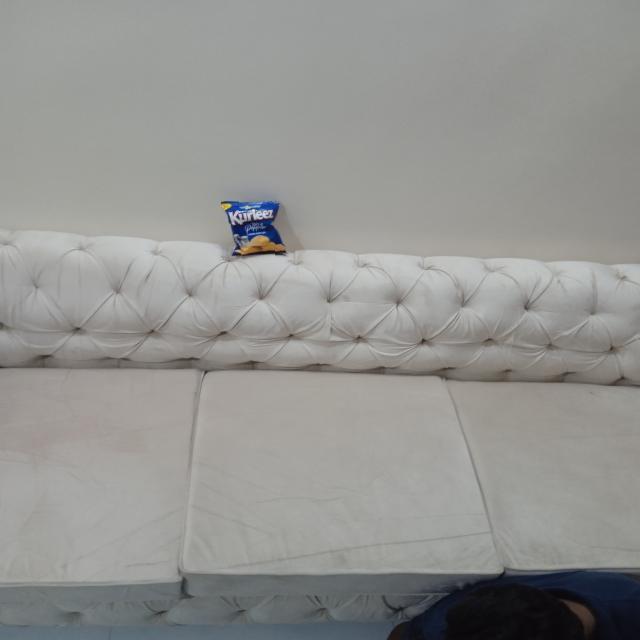Plastic: (222, 194, 296, 260)
